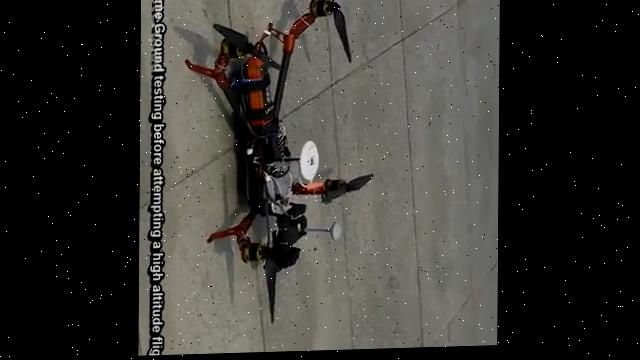drone: (176, 0, 378, 332)
